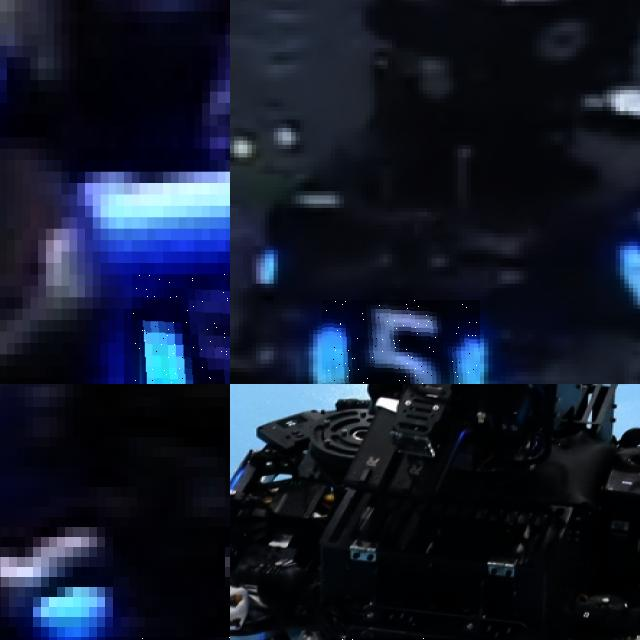B5: (322, 300, 480, 384), (132, 274, 230, 384)
